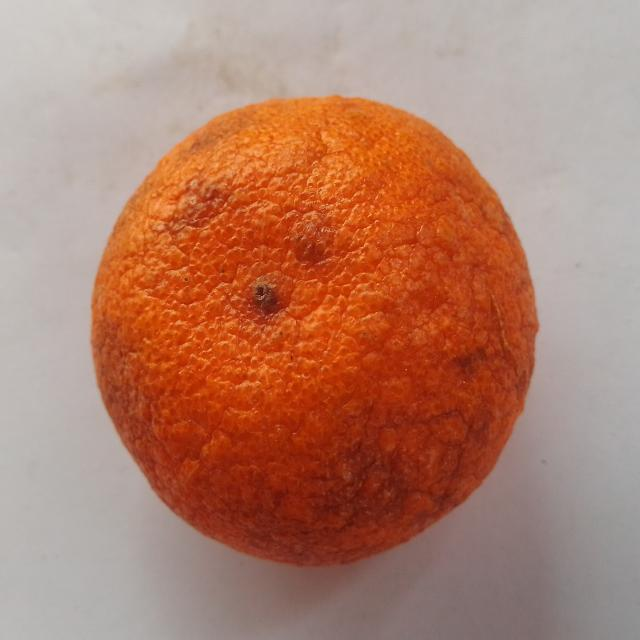orange: (92, 98, 537, 564)
